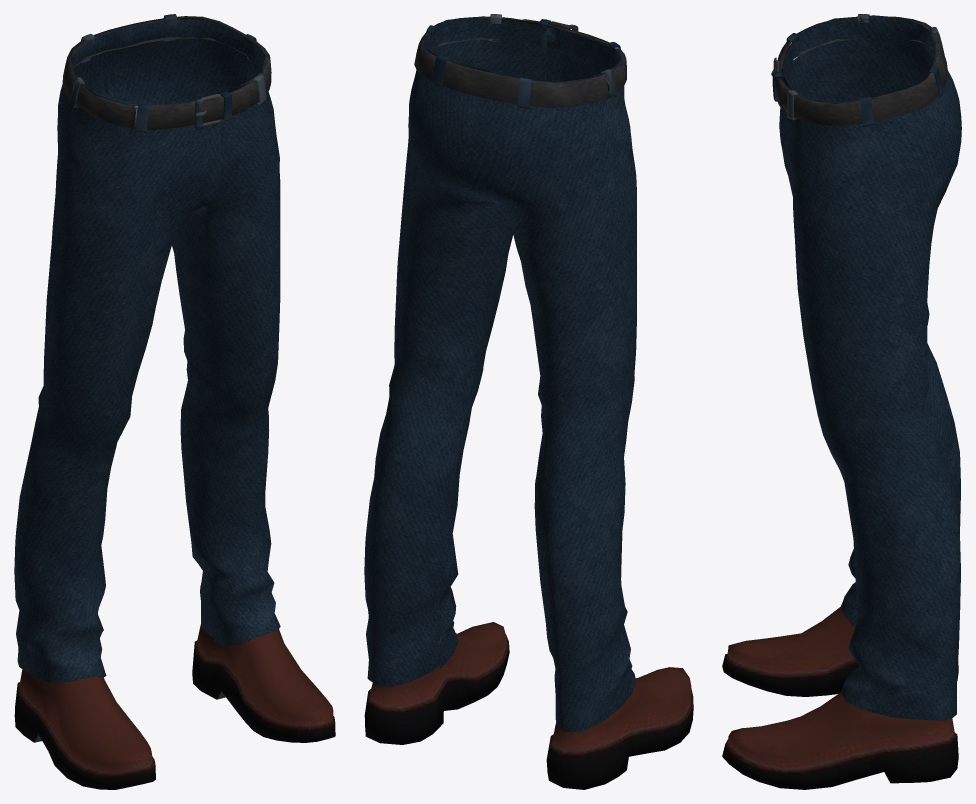
The model's file is 231101_G_Leg_01.glb.
3 renders of one model, left to right at view 1: azimuth 30°, elevation 25°; view 2: azimuth 150°, elevation 25°; view 3: azimuth 270°, elevation 25°, orthographic. The views are drawn at different scales.
Parts seen in each view (by area): view 1: G_Leg_01; view 2: G_Leg_01; view 3: G_Leg_01.
Part boxes in pixels (left/top/right/bottom): G_Leg_01: left=14, top=14, right=335, bottom=789; G_Leg_01: left=364, top=14, right=693, bottom=789; G_Leg_01: left=722, top=14, right=961, bottom=789.
Size of the model in its own units: 0.4366 by 1.1 by 0.3533.
Materials: 1 (1 with a texture image).
